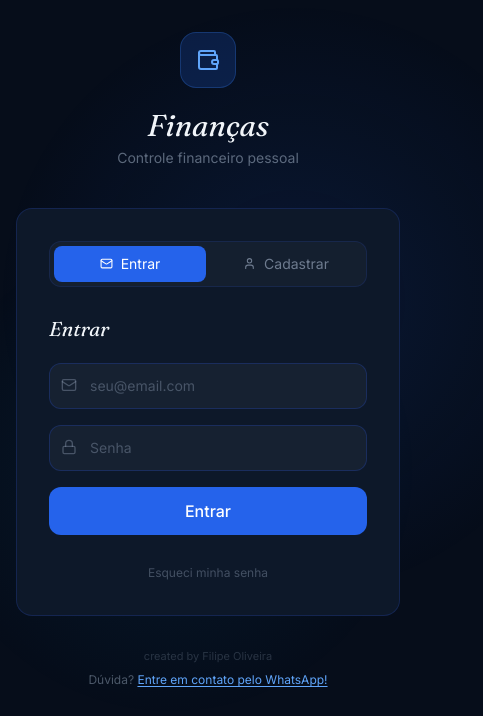
Auth › cadastro com token › signUp com identities vazio (email já cadastrado) NÃO consome o token
The image size is (483, 716).
Click the button "Cadastrar" at (286,264), box x1=210 y1=246 x2=362 y2=282
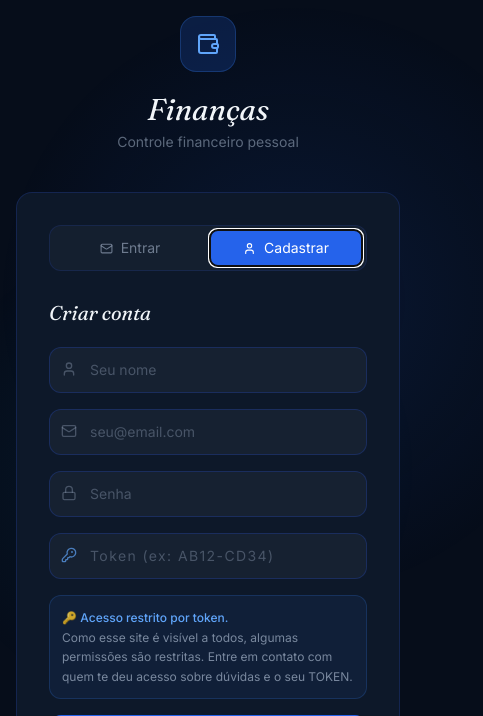
Type "Teste" into the field with placeholder "Seu nome" at (208,370), box x1=49 y1=347 x2=367 y2=393
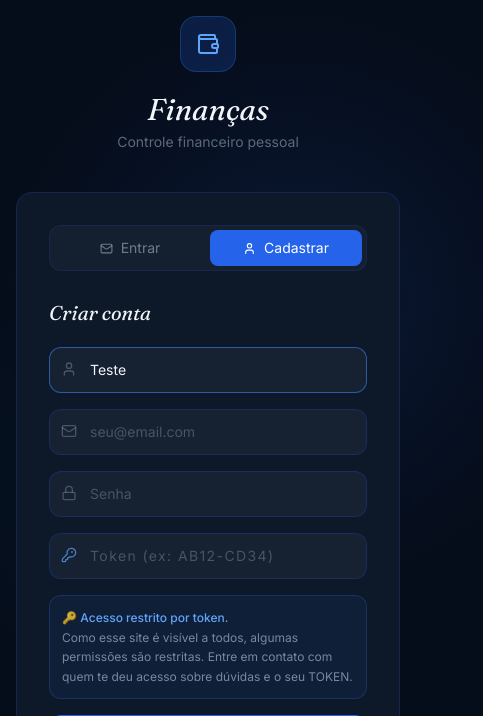
Type "teste@example.com" into the field with placeholder "seu@email.com" at (208,432), box x1=49 y1=409 x2=367 y2=455
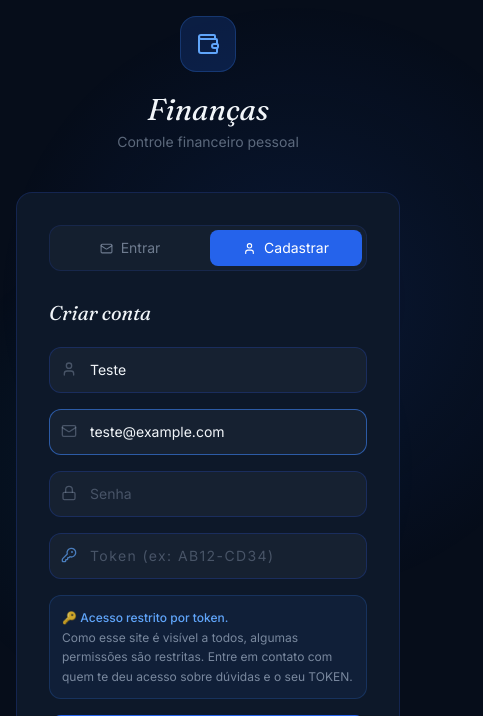
Type "senha-teste" into the password field with placeholder "Senha" at (208,494), box x1=49 y1=471 x2=367 y2=517
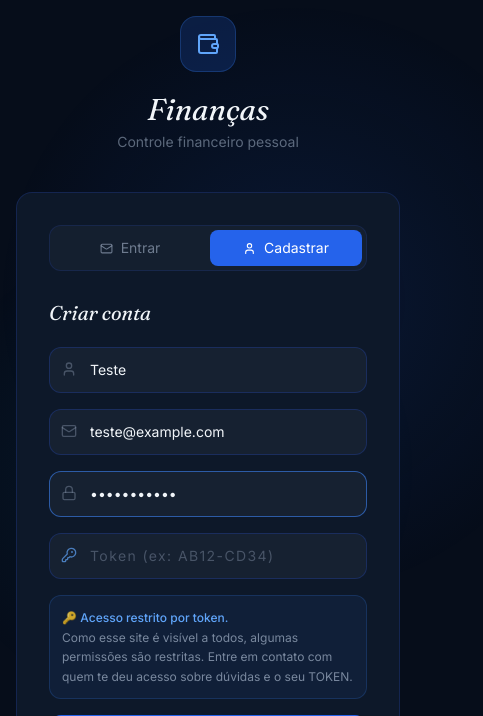
Type "ab12-cd34" into the field with placeholder "Token (ex: AB12-CD34)" at (208,556), box x1=49 y1=533 x2=367 y2=579
(page scrolled)
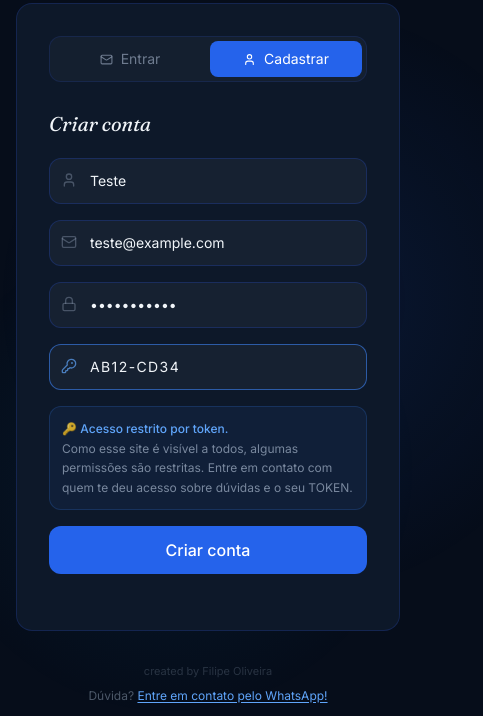
Click the button "Criar conta" at (208,550), box x1=49 y1=526 x2=367 y2=574
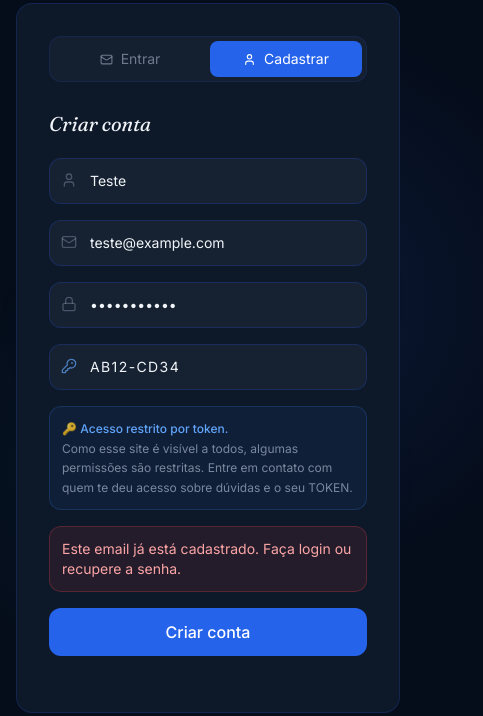
Result: the text "Este email já está cadastrado" is shown at x1=62 y1=540 x2=351 y2=577
